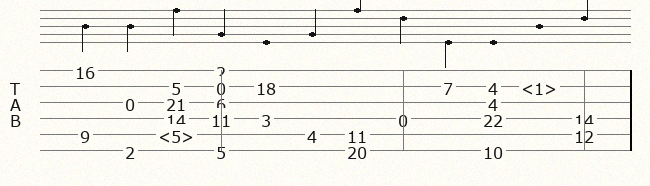0: (125, 94, 139, 110), (216, 78, 230, 94), (398, 110, 412, 126)
10: (483, 142, 507, 158)
11: (211, 110, 235, 126), (347, 126, 371, 142)
12: (574, 126, 598, 142)
14: (166, 110, 190, 126), (574, 110, 598, 126)
16: (75, 62, 99, 78)
18: (256, 78, 280, 94)
2: (125, 142, 139, 158), (216, 62, 230, 78)
20: (347, 142, 371, 158)
21: (166, 94, 190, 110)
22: (483, 110, 507, 126)
3: (261, 110, 275, 126)
4: (307, 126, 321, 142), (488, 94, 502, 110), (488, 78, 502, 94)
5: (171, 78, 185, 94), (216, 142, 230, 158)
6: (216, 94, 230, 110)
7: (443, 78, 457, 94)
9: (80, 126, 94, 142)
harmonic: (158, 126, 198, 142), (521, 78, 561, 94)
